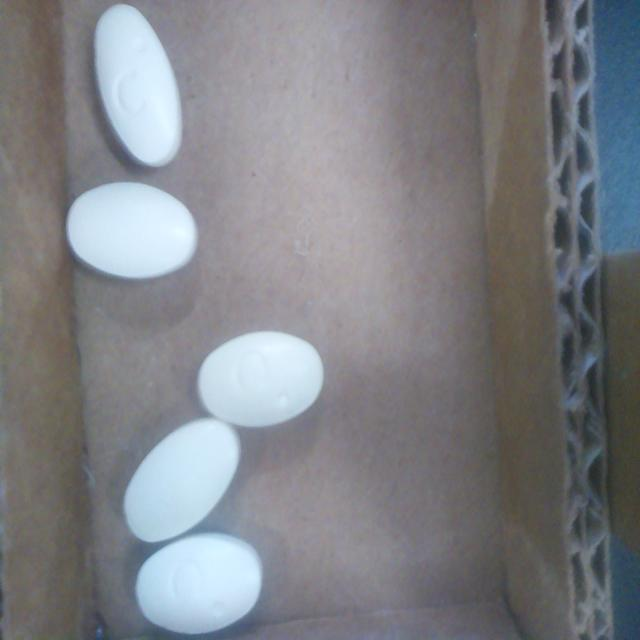pill: (123, 418, 240, 543), (94, 4, 182, 168), (136, 533, 262, 634), (67, 182, 198, 279), (199, 331, 323, 427)
